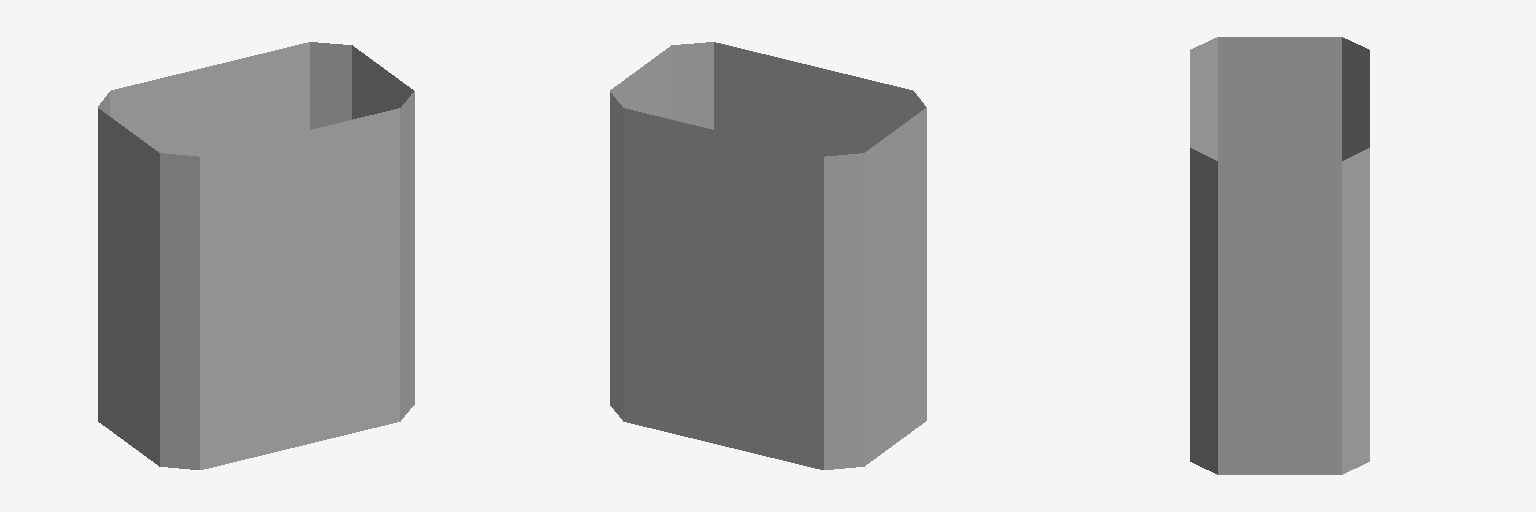
Rendered from Missile LauncherBarrel2.obj.
3 views of the same model, side by side, from view 1: azimuth 30°, elevation 25°; view 2: azimuth 150°, elevation 25°; view 3: azimuth 270°, elevation 25° (orthographic).
Parts seen in each view (by area): view 1: Cube.001; view 2: Cube.001; view 3: Cube.001.
Boxes of the visible parts, x1,y1,x2,y2 form: Cube.001: [98, 42, 414, 469]; Cube.001: [610, 42, 926, 469]; Cube.001: [1190, 37, 1369, 474].
Size of the model in its own units: 1.76 by 2.07 by 1.08.